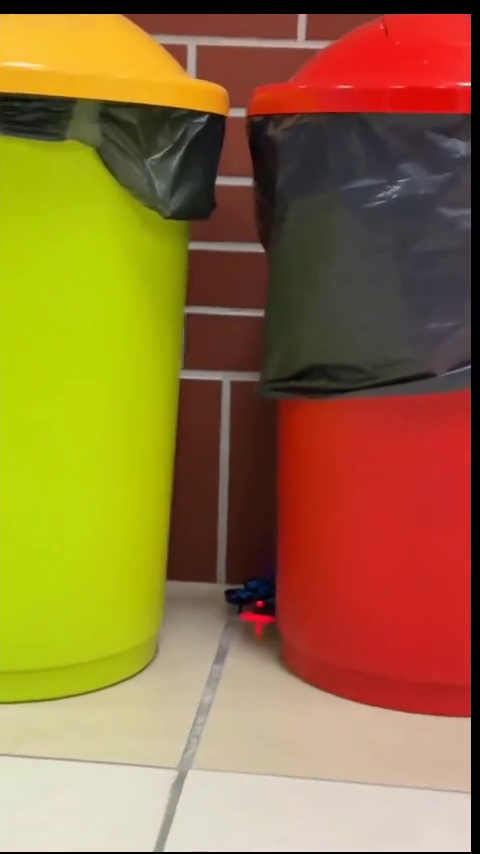drone: (224, 577, 271, 613)
